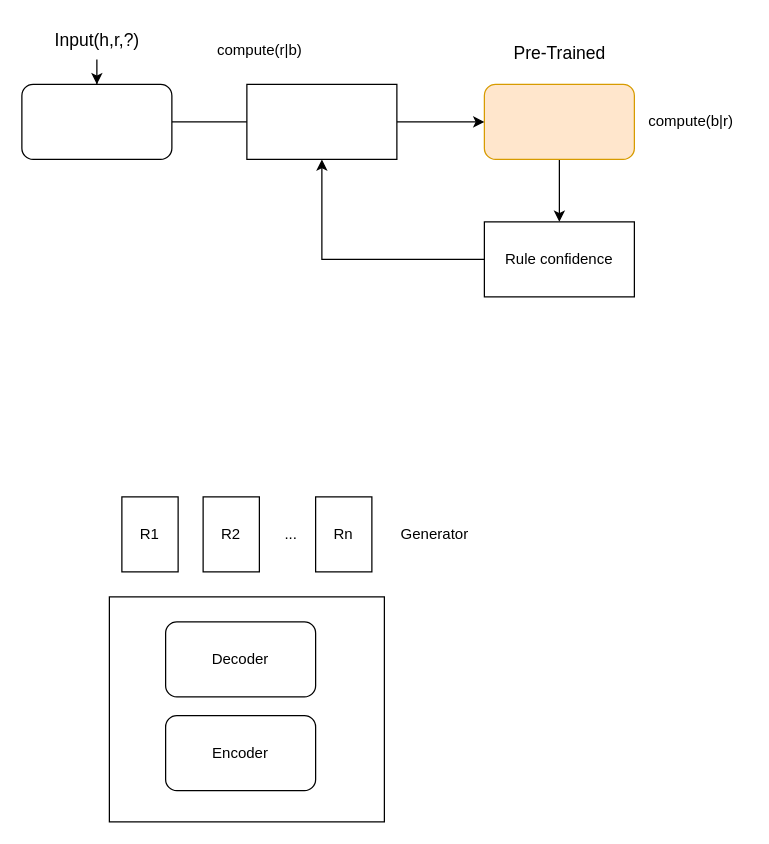
Some shapes in this 769 by 844 pixel diagram are drawn without their labels. Each missing label, with the centre of its shape:
"Body(b1,b2,bn)" belongs at (321,121).
"RuleEvaluator" belongs at (558,121).
"RuleGenerator" belongs at (96,121).
